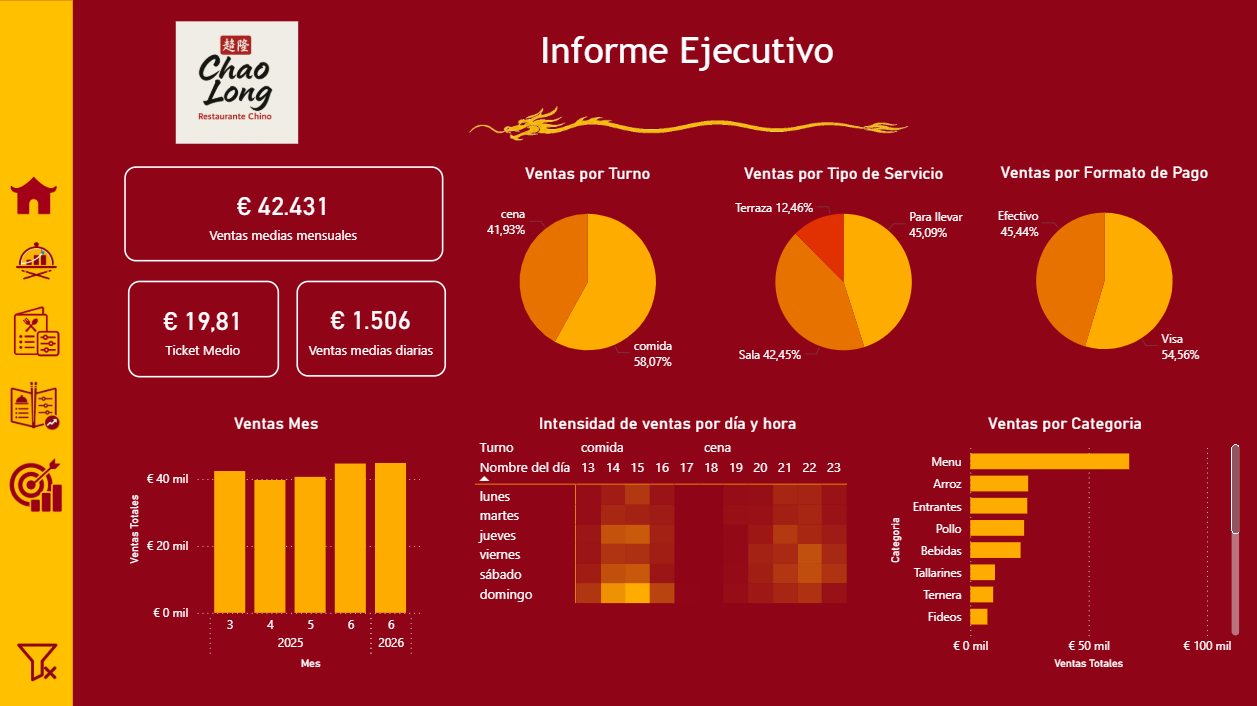

The page's visual inventory and layout, read from the dashboard file:
{"tool":"powerbi","page":{"name":"Informe Ejecutivo","canvas":[1280,720],"ordinal":1},"visuals":[{"type":"textbox","box":[298.5,25.6,809.6,69.7],"z":0},{"type":"card","fields":{"Values":["Ventas.Promedio Mensual de Ventas"]},"box":[126.4,169.7,324.2,97.1],"z":1000},{"type":"clusteredColumnChart","title":"Ventas Mes","fields":{"Y":["Ventas.Ventas Totales"],"Category":["Ventas.Año","Ventas.Mes"]},"box":[126.6,421.7,309,264.8],"z":2000},{"type":"clusteredBarChart","title":"Ventas por Categoria","fields":{"Category":["Productos.Categoria"],"Y":["Informe Ejecutivo.Ventas Totales"]},"box":[900.2,421.7,364.7,264.8],"z":3000},{"type":"pieChart","title":"Ventas por Formato de Pago","fields":{"Y":["Sum(ANALISIS.Total)"],"Category":["ANALISIS.FORMATO_PAGO"]},"box":[990.2,166.5,265,222],"z":4000},{"type":"pieChart","title":"Ventas por Turno","fields":{"Category":["ANALISIS.Turno"],"Y":["Sum(ANALISIS.Total)"]},"box":[464.6,167.3,264.8,221.9],"z":5000},{"type":"pieChart","title":"Ventas por Tipo de Servicio","fields":{"Category":["ANALISIS.Zona restaurante"],"Y":["Sum(ANALISIS.Total)"]},"box":[724.8,167.3,264.8,221.9],"z":6000},{"type":"pivotTable","title":"Intensidad de ventas por día y hora","fields":{"Rows":["ANALISIS.Nombre del día"],"Columns":["ANALISIS.Turno","ANALISIS.hora"],"Values":["ANALISIS.Heatmap Ventas"]},"box":[477,421.2,402.4,265],"z":7000},{"type":"shape","box":[0,1.4,74.3,718.6],"z":8000},{"type":"image","box":[174.4,14,134.6,141.6],"z":9000},{"type":"image","box":[464.6,97.6,470.5,58.1],"z":10000},{"type":"image","box":[0,228.8,73.8,75],"z":11000},{"type":"image","box":[4.6,377.4,62.5,72.5],"z":12000},{"type":"image","box":[3.3,452.5,65,82.5],"z":13000},{"type":"image","box":[5,170,58.8,58.8],"z":14000},{"type":"image","box":[0,303.6,73.8,71.2],"z":15000},{"type":"card","fields":{"Values":["Informe Ejecutivo.Ticket Medio"]},"box":[129.7,285.7,153.3,98.7],"z":16000},{"type":"card","fields":{"Values":["Informe Ejecutivo.Ventas Medio por dia"]},"box":[301.6,285.7,152.2,97.6],"z":17000},{"type":"image","box":[5.8,642.4,63.9,61.6],"z":18000}]}

Visuals, with their boxes in screenshot pixels (x1, y1, x2, y2), scaled from the page's 1280x720 canvas onto the 1257x706 screenshot:
textbox: left=293, top=25, right=1088, bottom=93
card - Ventas.Promedio Mensual de Ventas: left=124, top=166, right=443, bottom=262
"Ventas Mes" clusteredColumnChart: left=124, top=414, right=428, bottom=673
"Ventas por Categoria" clusteredBarChart: left=884, top=414, right=1242, bottom=673
"Ventas por Formato de Pago" pieChart: left=972, top=163, right=1233, bottom=381
"Ventas por Turno" pieChart: left=456, top=164, right=716, bottom=382
"Ventas por Tipo de Servicio" pieChart: left=712, top=164, right=972, bottom=382
"Intensidad de ventas por día y hora" pivotTable: left=468, top=413, right=864, bottom=673
shape: left=0, top=1, right=73, bottom=705
image: left=171, top=14, right=303, bottom=153
image: left=456, top=96, right=918, bottom=153
image: left=0, top=224, right=72, bottom=298
image: left=5, top=370, right=66, bottom=441
image: left=3, top=444, right=67, bottom=525
image: left=5, top=167, right=63, bottom=224
image: left=0, top=298, right=72, bottom=368
card - Informe Ejecutivo.Ticket Medio: left=127, top=280, right=278, bottom=377
card - Informe Ejecutivo.Ventas Medio por dia: left=296, top=280, right=446, bottom=376
image: left=6, top=630, right=68, bottom=690
